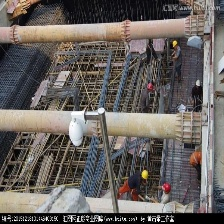helmet: (140, 167, 151, 184), (162, 180, 171, 197), (146, 80, 155, 94), (195, 79, 203, 91), (172, 39, 180, 51)
no-vest: (127, 173, 146, 195)
person: (118, 168, 150, 205), (138, 83, 155, 117), (171, 40, 184, 83)
